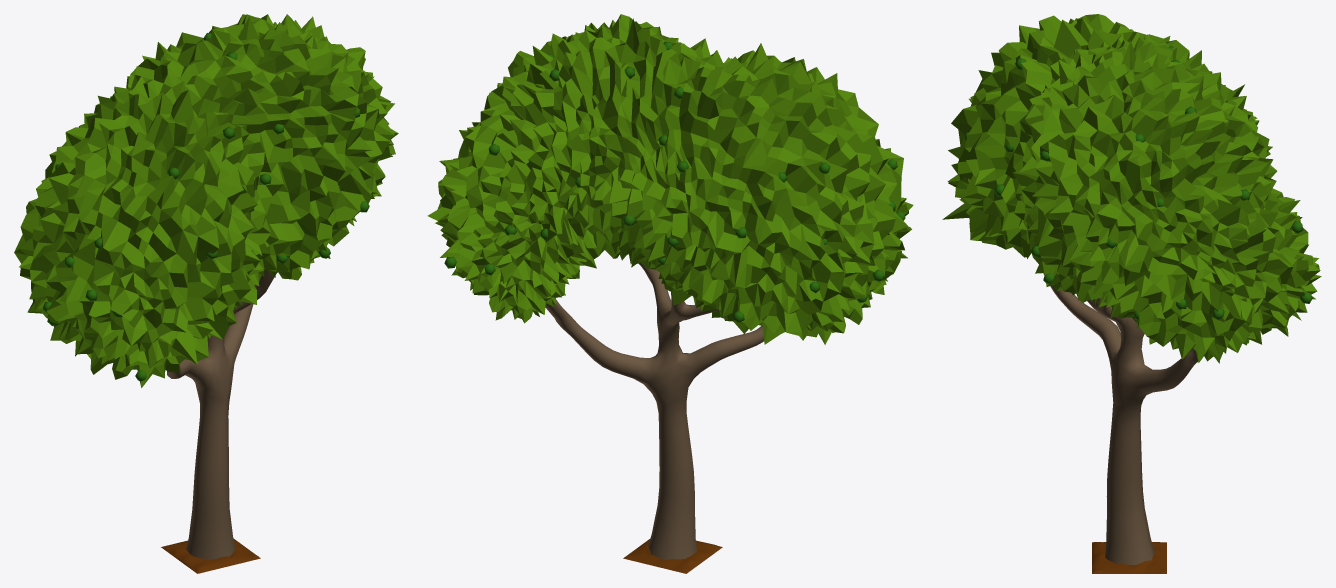
The model's file is walnut.glb.
3 renders of one model, left to right at view 1: azimuth 30°, elevation 25°; view 2: azimuth 150°, elevation 25°; view 3: azimuth 270°, elevation 25°, orthographic. The views are drawn at different scales.
Visible parts, largest first — view 1: 5_nft_summer; view 2: 5_nft_summer; view 3: 5_nft_summer.
Boxes of the visible parts, bbox=[...] form: 5_nft_summer: bbox=[14, 14, 398, 573]; 5_nft_summer: bbox=[427, 14, 913, 573]; 5_nft_summer: bbox=[942, 14, 1321, 573].
Size of the model in its own units: 8.49 by 11.09 by 7.1.
